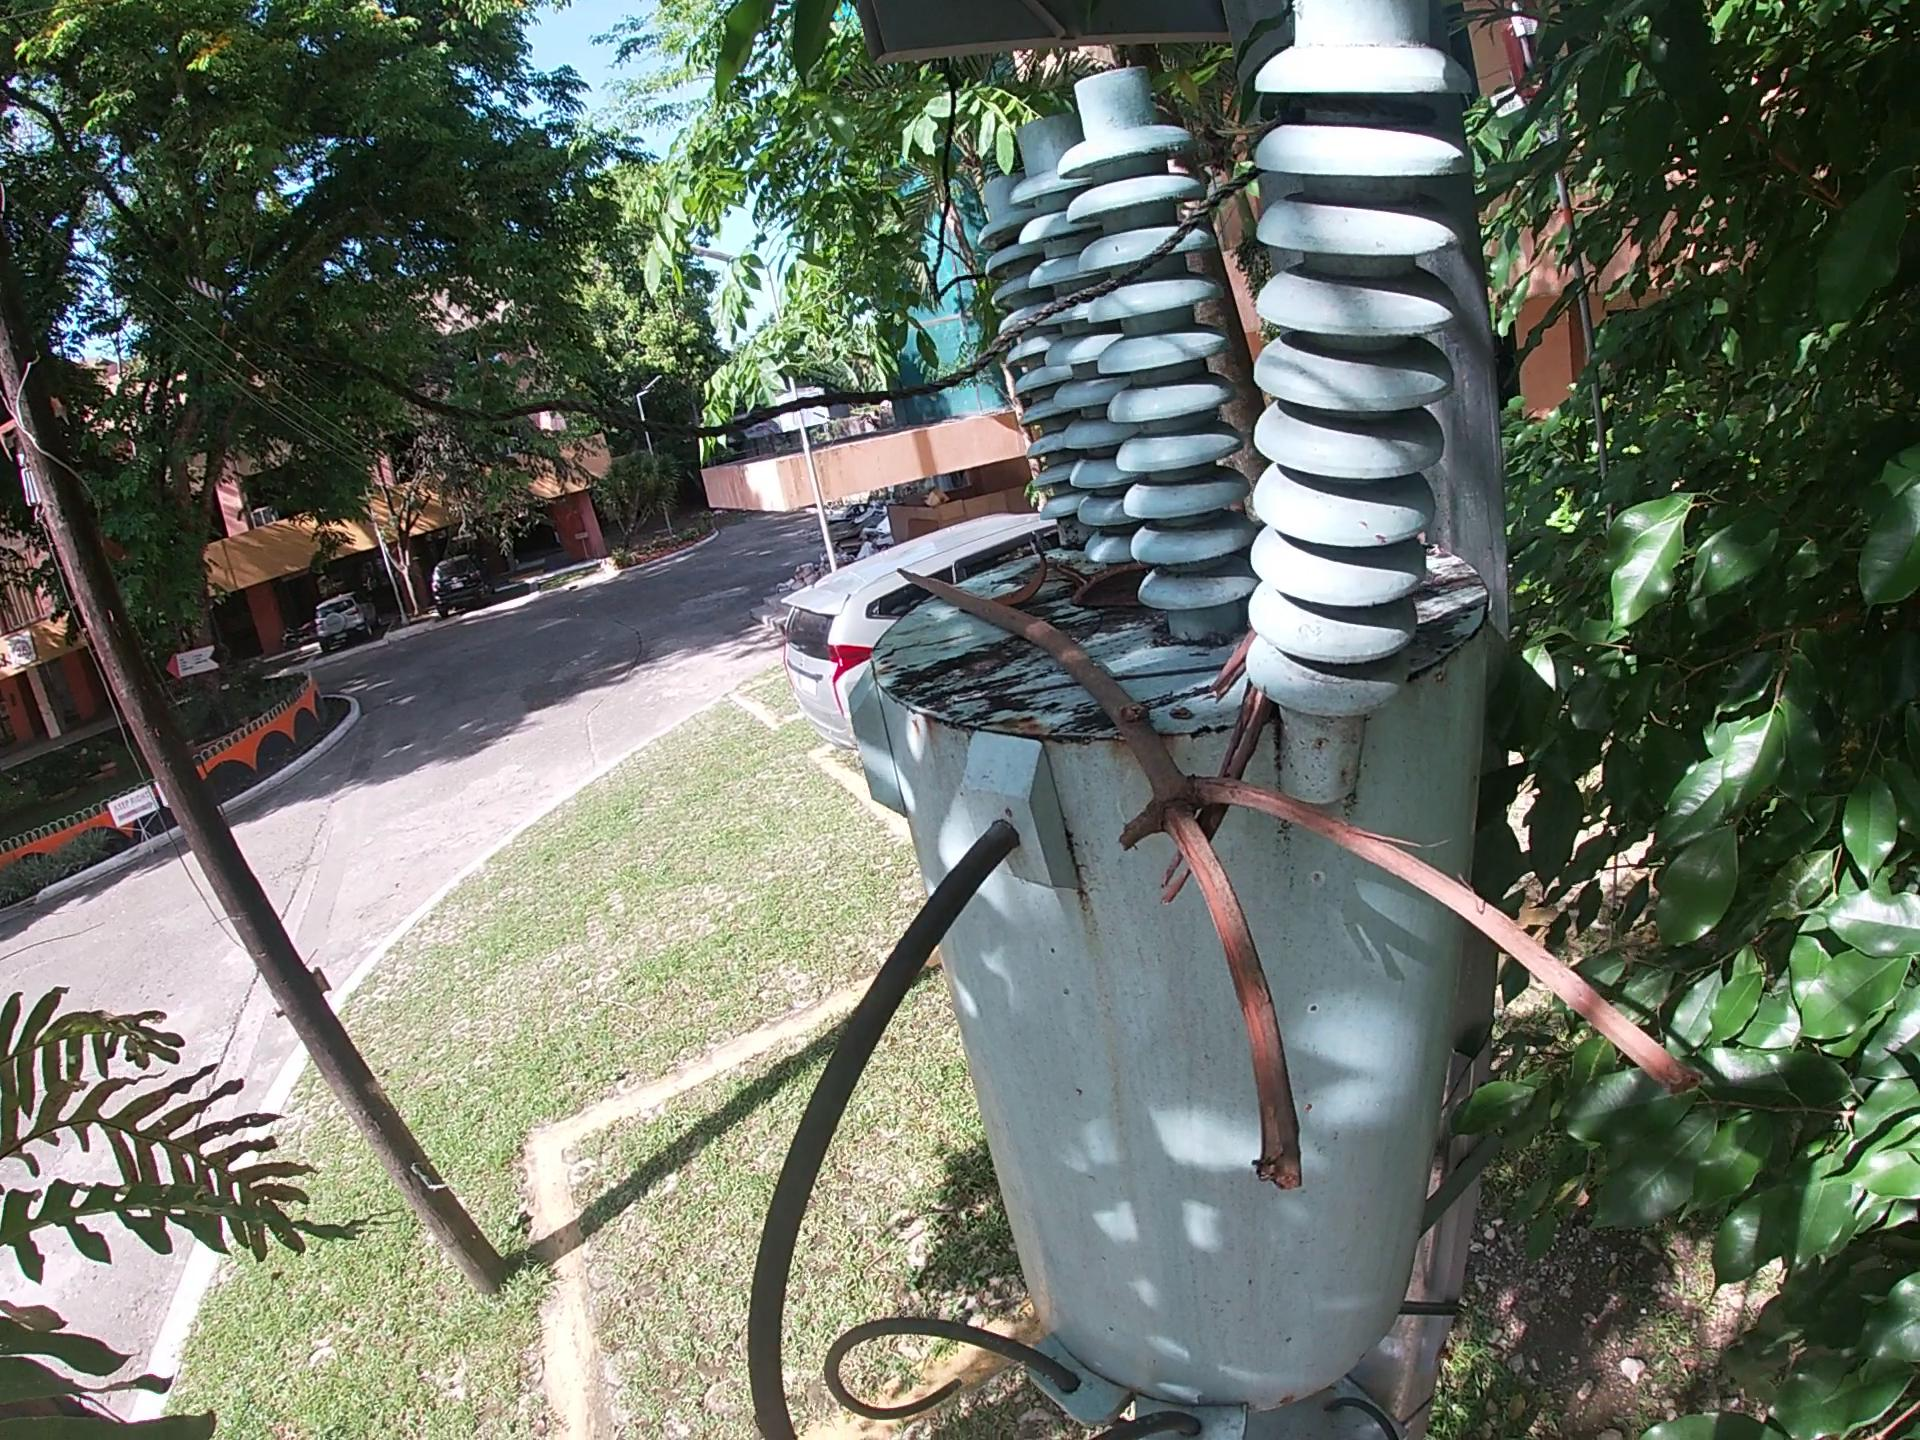mahogany fruit: (1064, 569, 1147, 625), (990, 545, 1055, 601)
tree branch: (884, 561, 1769, 1234), (1150, 637, 1284, 914), (945, 646, 1228, 709), (1058, 558, 1090, 587)
